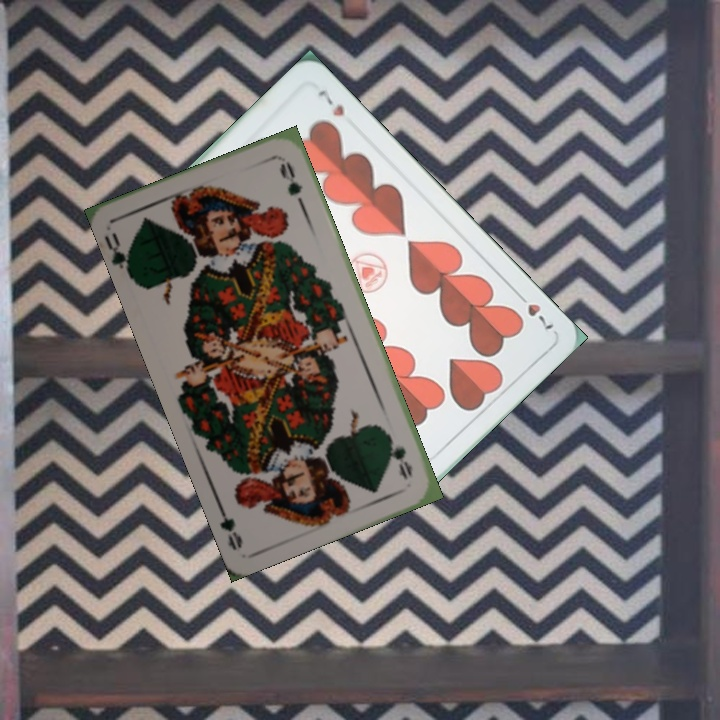GO: (102, 228, 137, 281), (381, 429, 415, 482)
H7: (511, 287, 557, 335)
